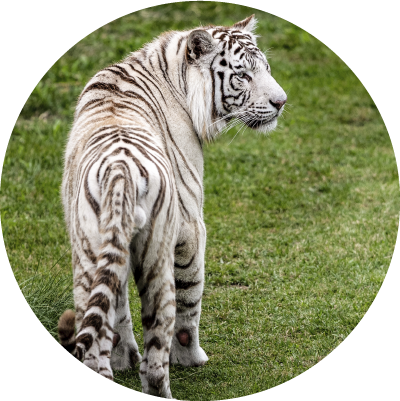Tigrew: (63, 6, 304, 350)
